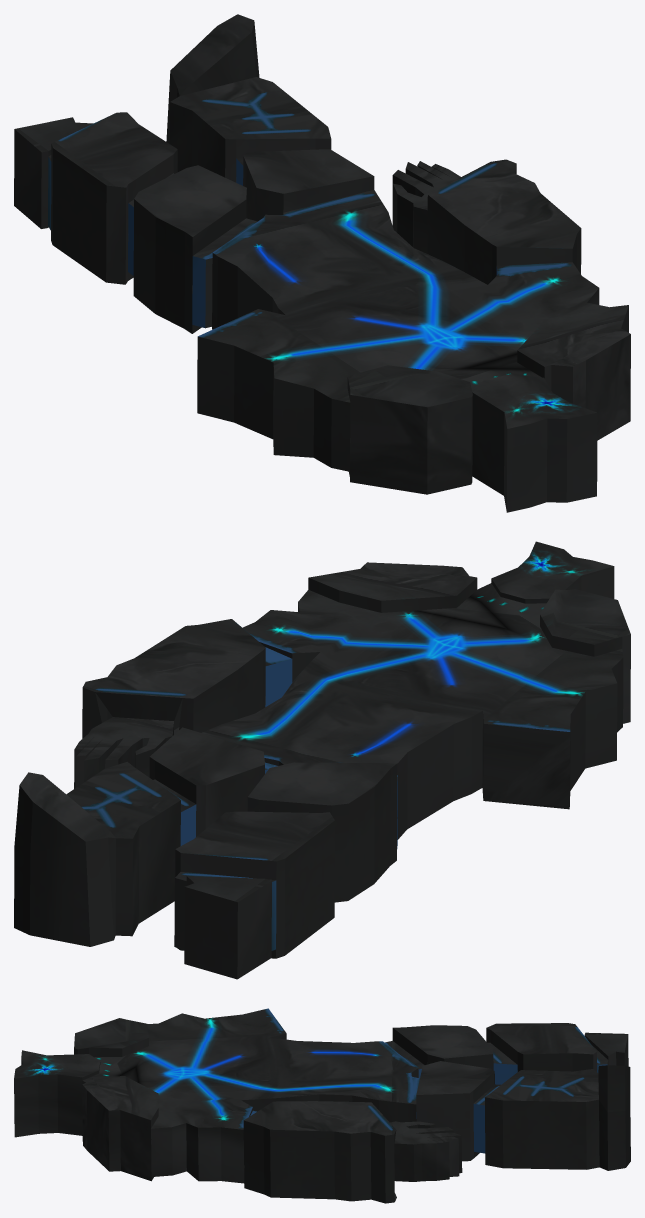
File: Statue 2.obj
The picture shows the model from 3 angles, top to bottom: view 1: azimuth 30°, elevation 25°; view 2: azimuth 150°, elevation 25°; view 3: azimuth 270°, elevation 25°; orthographic projection. The views are drawn at different scales.
Visible parts, largest first — view 1: Line002; view 2: Line002; view 3: Line002.
Boxes of the visible parts, <box> form: Line002: <box>14,14,630,512</box>; Line002: <box>14,541,630,979</box>; Line002: <box>14,1008,630,1203</box>.
Bounding box in the file's own units: 64.17 × 22.7 × 122.
